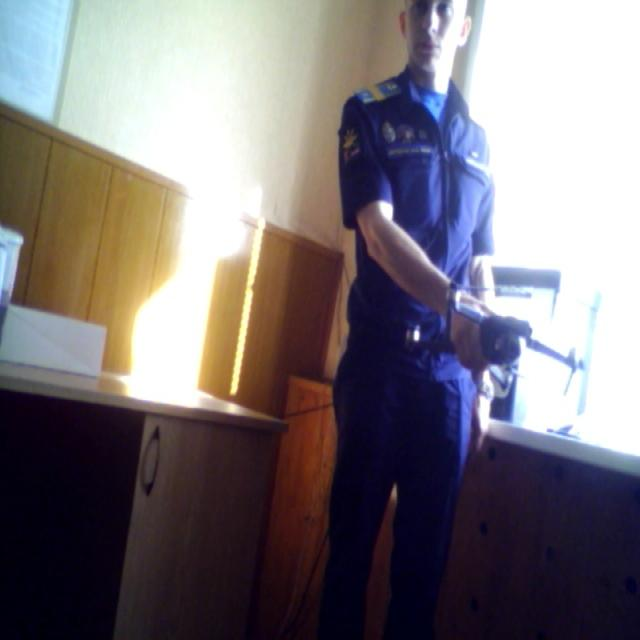drone: (391, 262, 607, 431)
